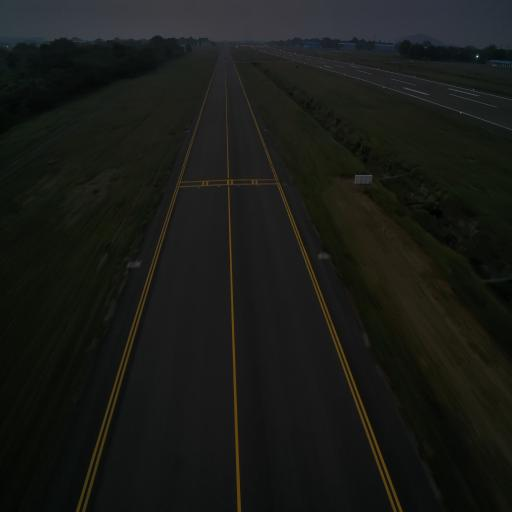off: (256, 184, 260, 188), (217, 185, 220, 188), (198, 186, 200, 190), (238, 184, 240, 188)
on: (135, 258, 139, 263), (187, 127, 190, 132), (320, 249, 322, 254), (264, 127, 267, 130)
